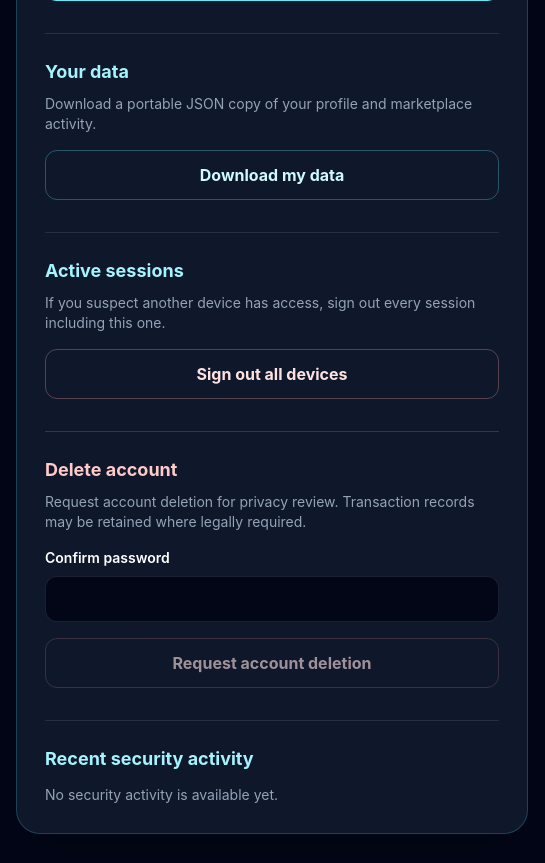
Test case: account access pages › submits and cancels an account deletion request
The image size is (545, 863).
(page scrolled)
Type "correct-password" into the password field labelled "Confirm password" at (272, 599), box [45,576,499,622]
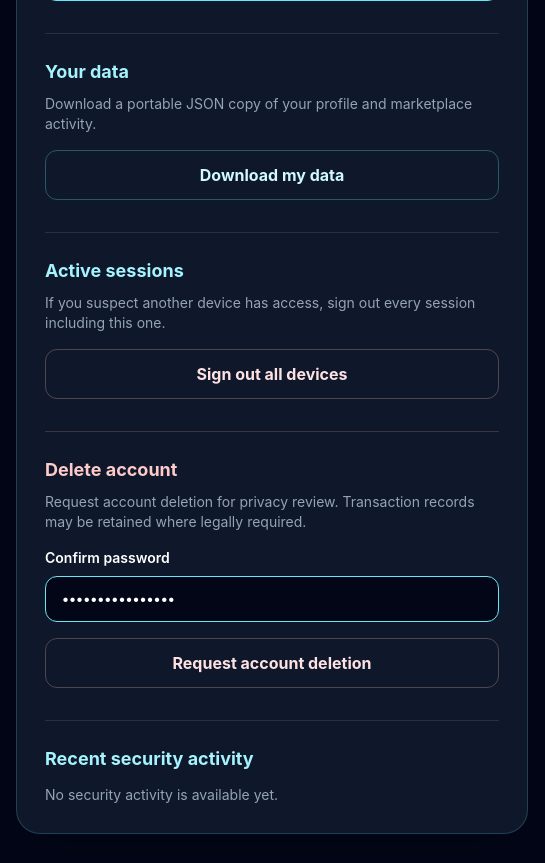
Click the button "Request account deletion" at (272, 663), box [45,638,499,688]
(page scrolled)
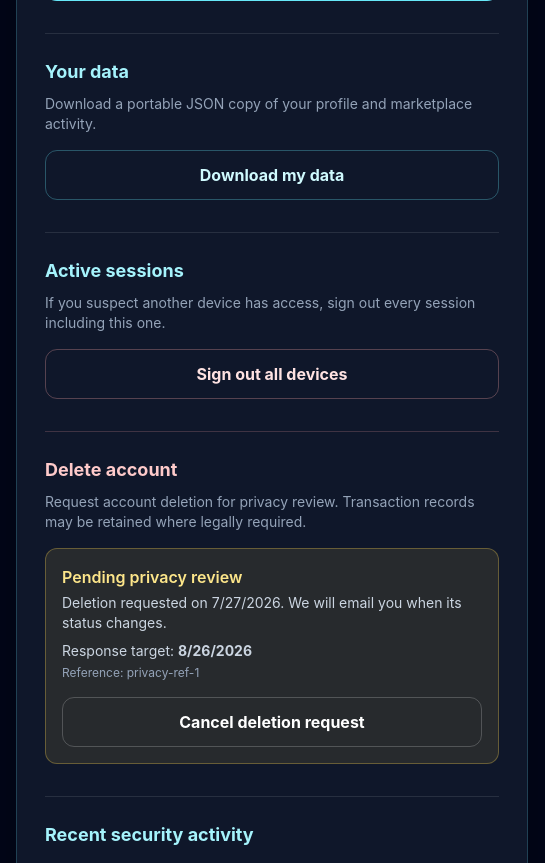
Expected: the text "Deletion requested on" is shown, [62,594,212,611]
Expected: the text "Reference: privacy-ref-1" is shown, [62,665,199,680]
Click the button "Cancel deletion request" at (272, 722), box [62,697,482,747]
(page scrolled)
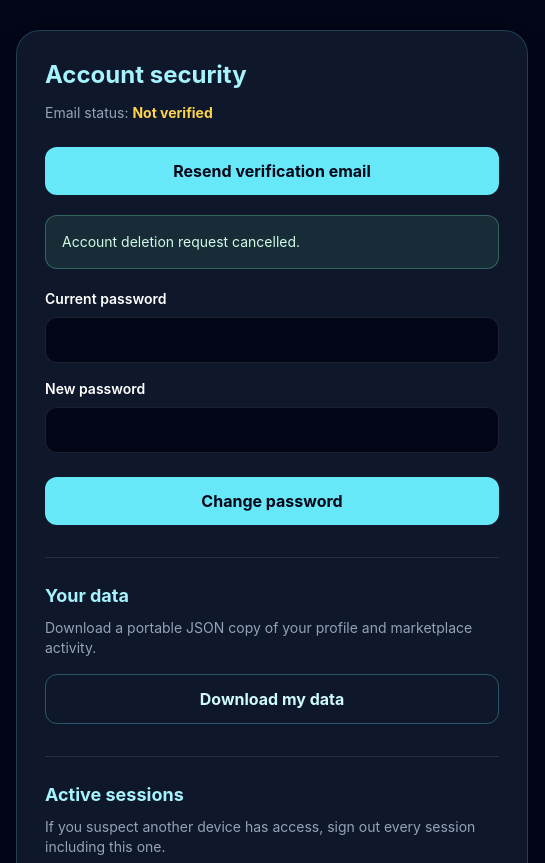
Expected: the text "Account deletion request cancelled." is shown, [45,215,499,269]
